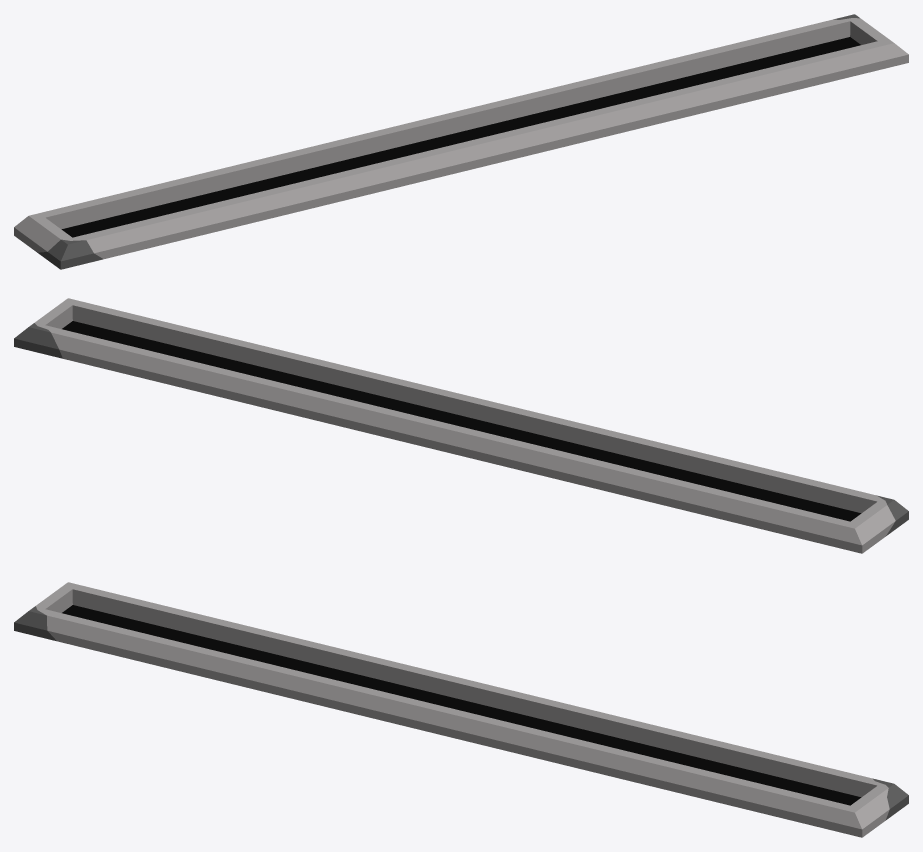
Rendered from SMLMetalSpikeRailTrap.fbx.
The picture shows the model from 3 angles, top to bottom: view 1: azimuth 30°, elevation 25°; view 2: azimuth 150°, elevation 25°; view 3: azimuth 330°, elevation 25°; orthographic projection.
Parts seen in each view (by area): view 1: SMLMetalSpikeRailTrap; view 2: SMLMetalSpikeRailTrap; view 3: SMLMetalSpikeRailTrap.
Part boxes in pixels (<box>): SMLMetalSpikeRailTrap: <box>14,14,908,269</box>; SMLMetalSpikeRailTrap: <box>14,298,908,553</box>; SMLMetalSpikeRailTrap: <box>14,582,908,837</box>.
Bounding box in the file's own units: 120 × 2.68 × 11.46.
